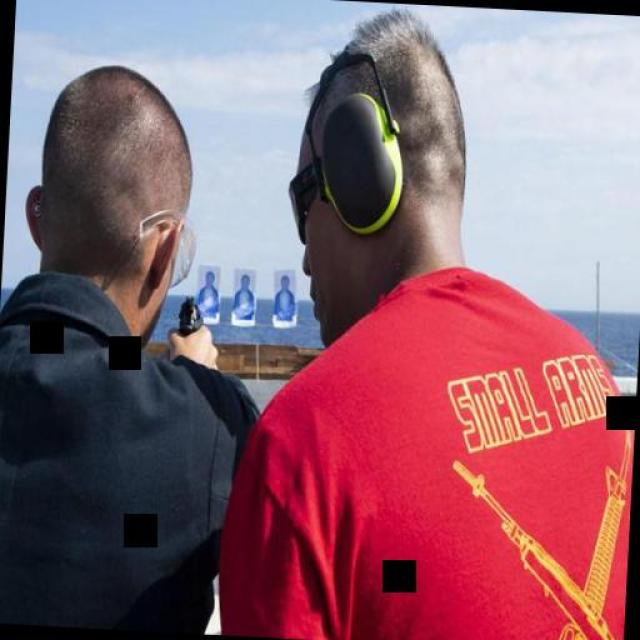gun: (173, 293, 205, 335)
